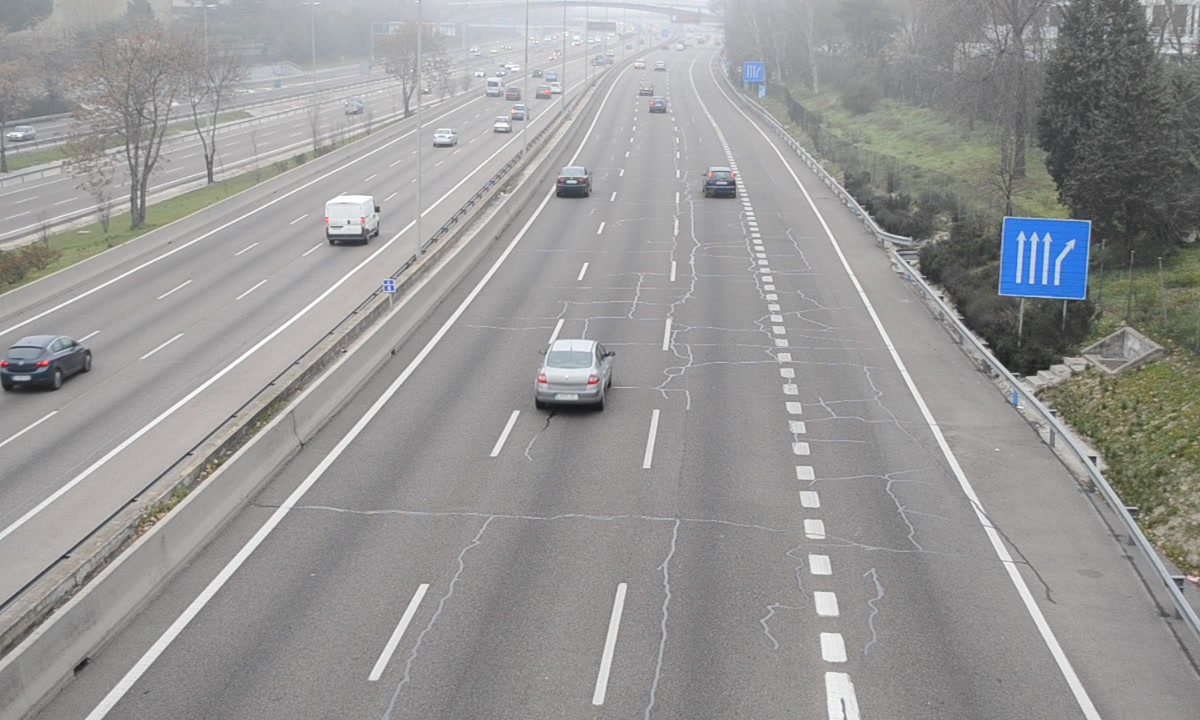car: (537, 340, 610, 408), (556, 165, 591, 199), (703, 167, 737, 199)
